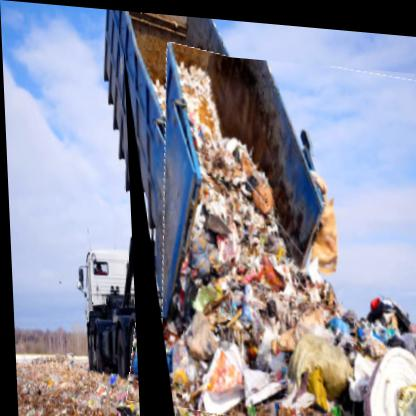Garbage: (124, 46, 416, 416)
